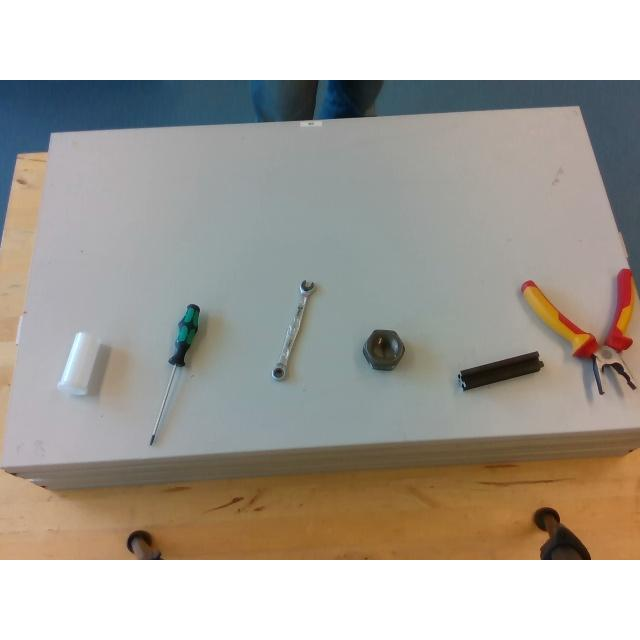F20_20_B: (457, 351, 543, 389)
M30: (364, 329, 404, 369)
Screwdriver: (150, 302, 202, 446)
Spacer: (58, 332, 102, 392)
Wrench: (272, 278, 314, 378)
